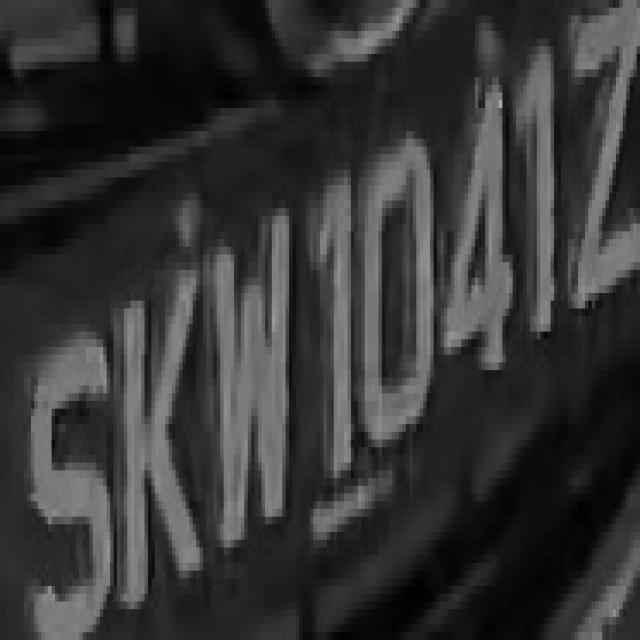0: (361, 116, 437, 493)
1: (303, 131, 358, 509), (519, 39, 561, 370)
4: (426, 54, 526, 432)
K: (103, 246, 203, 624)
S: (24, 293, 121, 640)
W: (200, 201, 292, 578)
Z: (3, 0, 4, 4)
